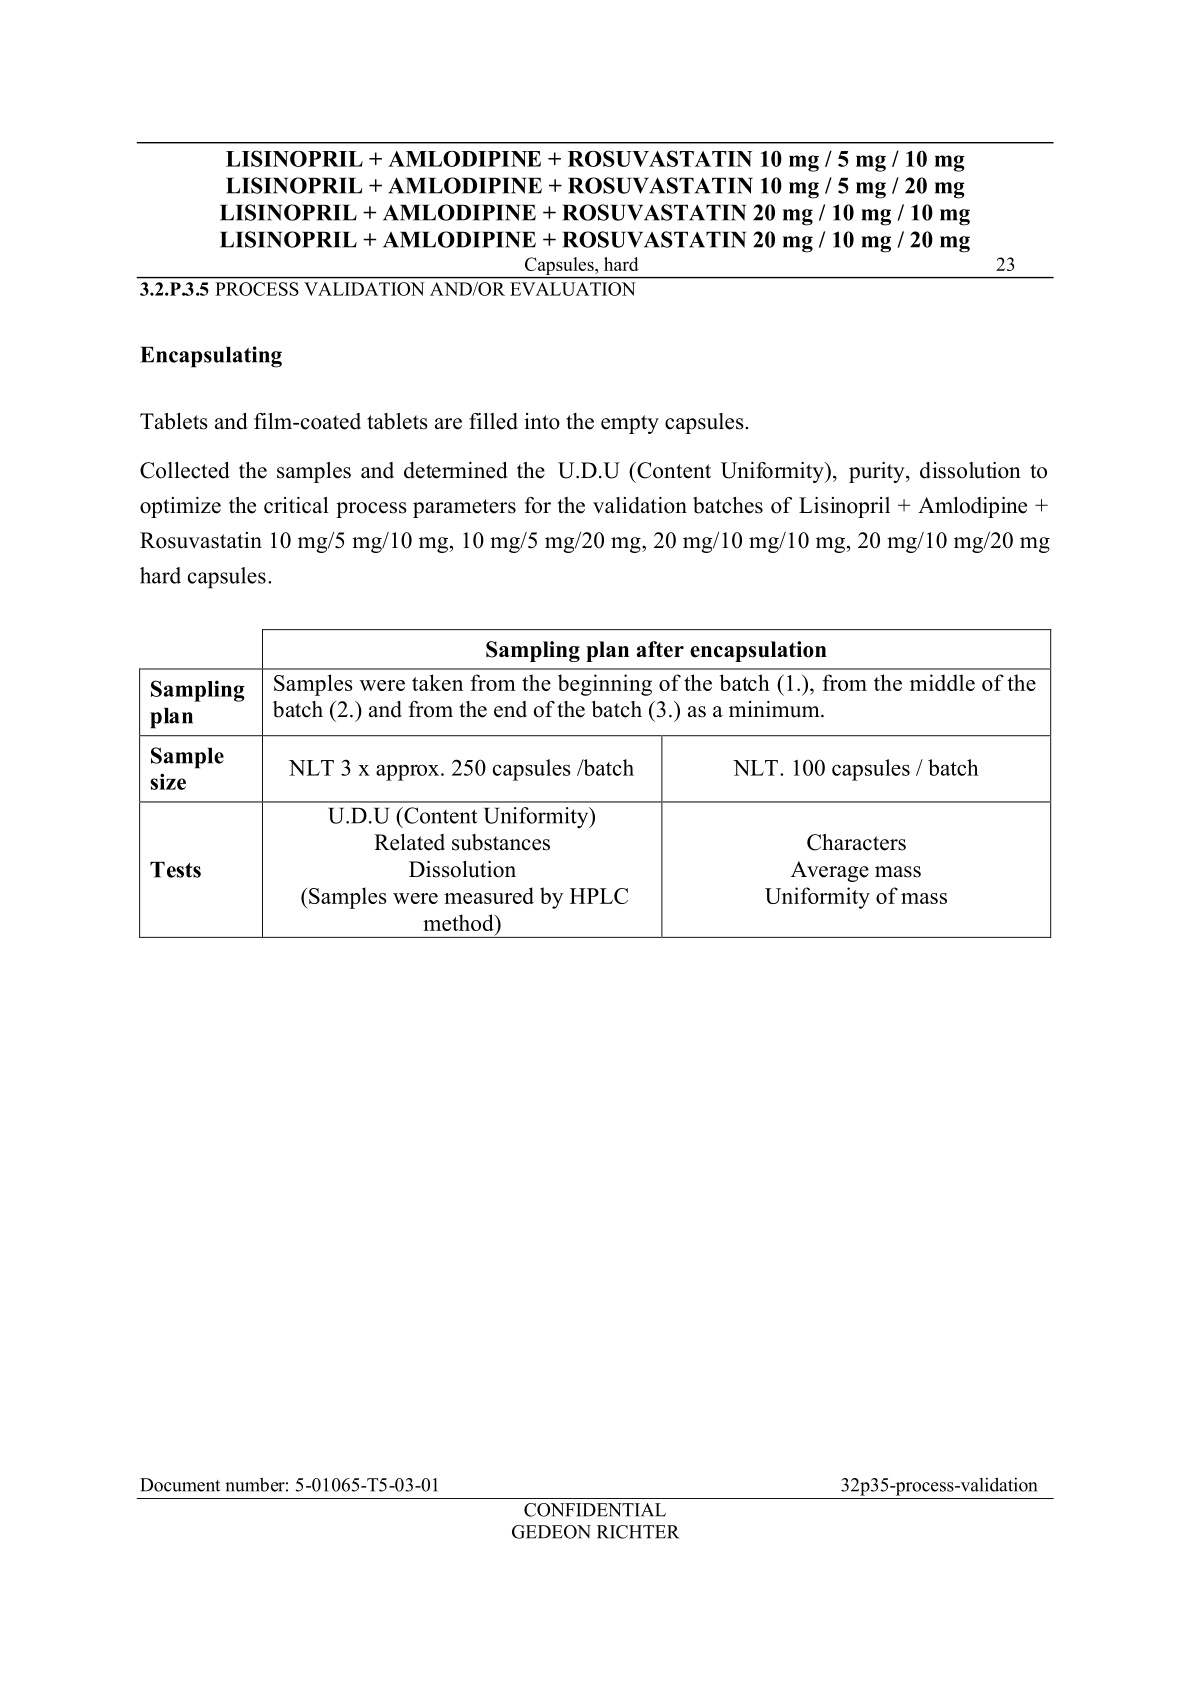merged_cells: (138, 627, 1052, 939)
